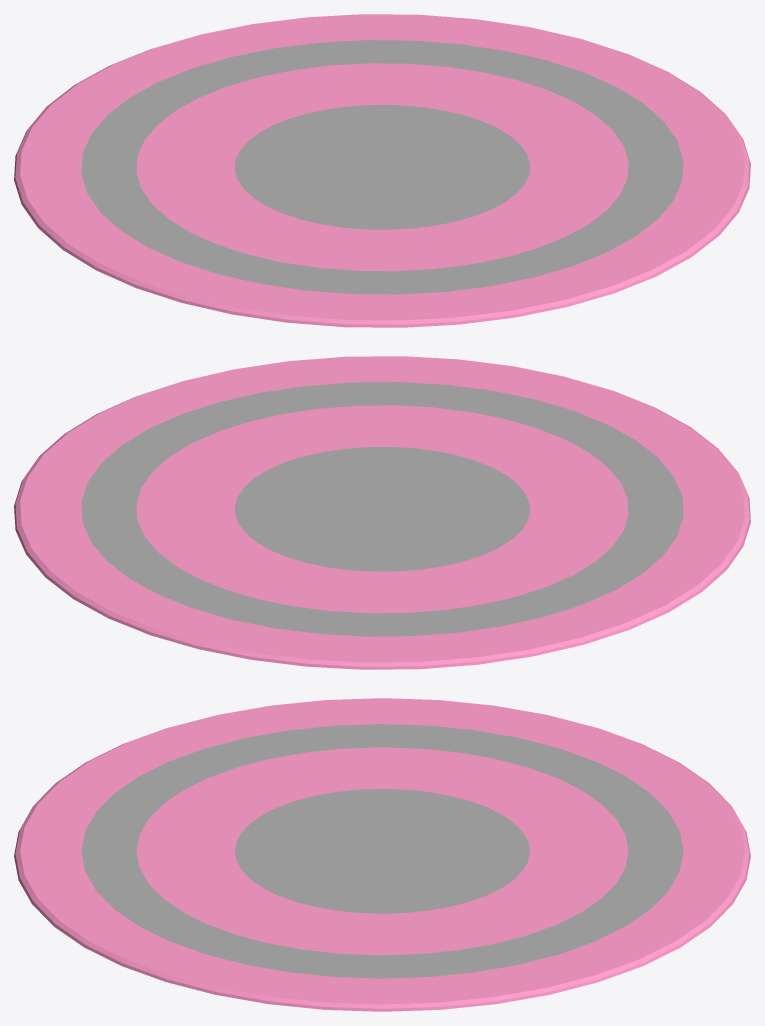
The model's file is Carpet_02.fbx.
3 renders of one model, top to bottom at view 1: azimuth 30°, elevation 25°; view 2: azimuth 150°, elevation 25°; view 3: azimuth 270°, elevation 25°, orthographic.
Visible parts, largest first — view 1: polySurface62, polySurface64; view 2: polySurface62, polySurface64; view 3: polySurface62, polySurface64.
Boxes of the visible parts, box(x1,y1,x2,y2) form: polySurface62: box(14, 14, 750, 327); polySurface64: box(81, 40, 683, 294); polySurface62: box(14, 356, 750, 669); polySurface64: box(81, 382, 683, 636); polySurface62: box(14, 698, 750, 1011); polySurface64: box(81, 724, 683, 978).
Bounding box in the file's own units: 331 × 2.35 × 331.
Materials: 2 (1 with a texture image).
